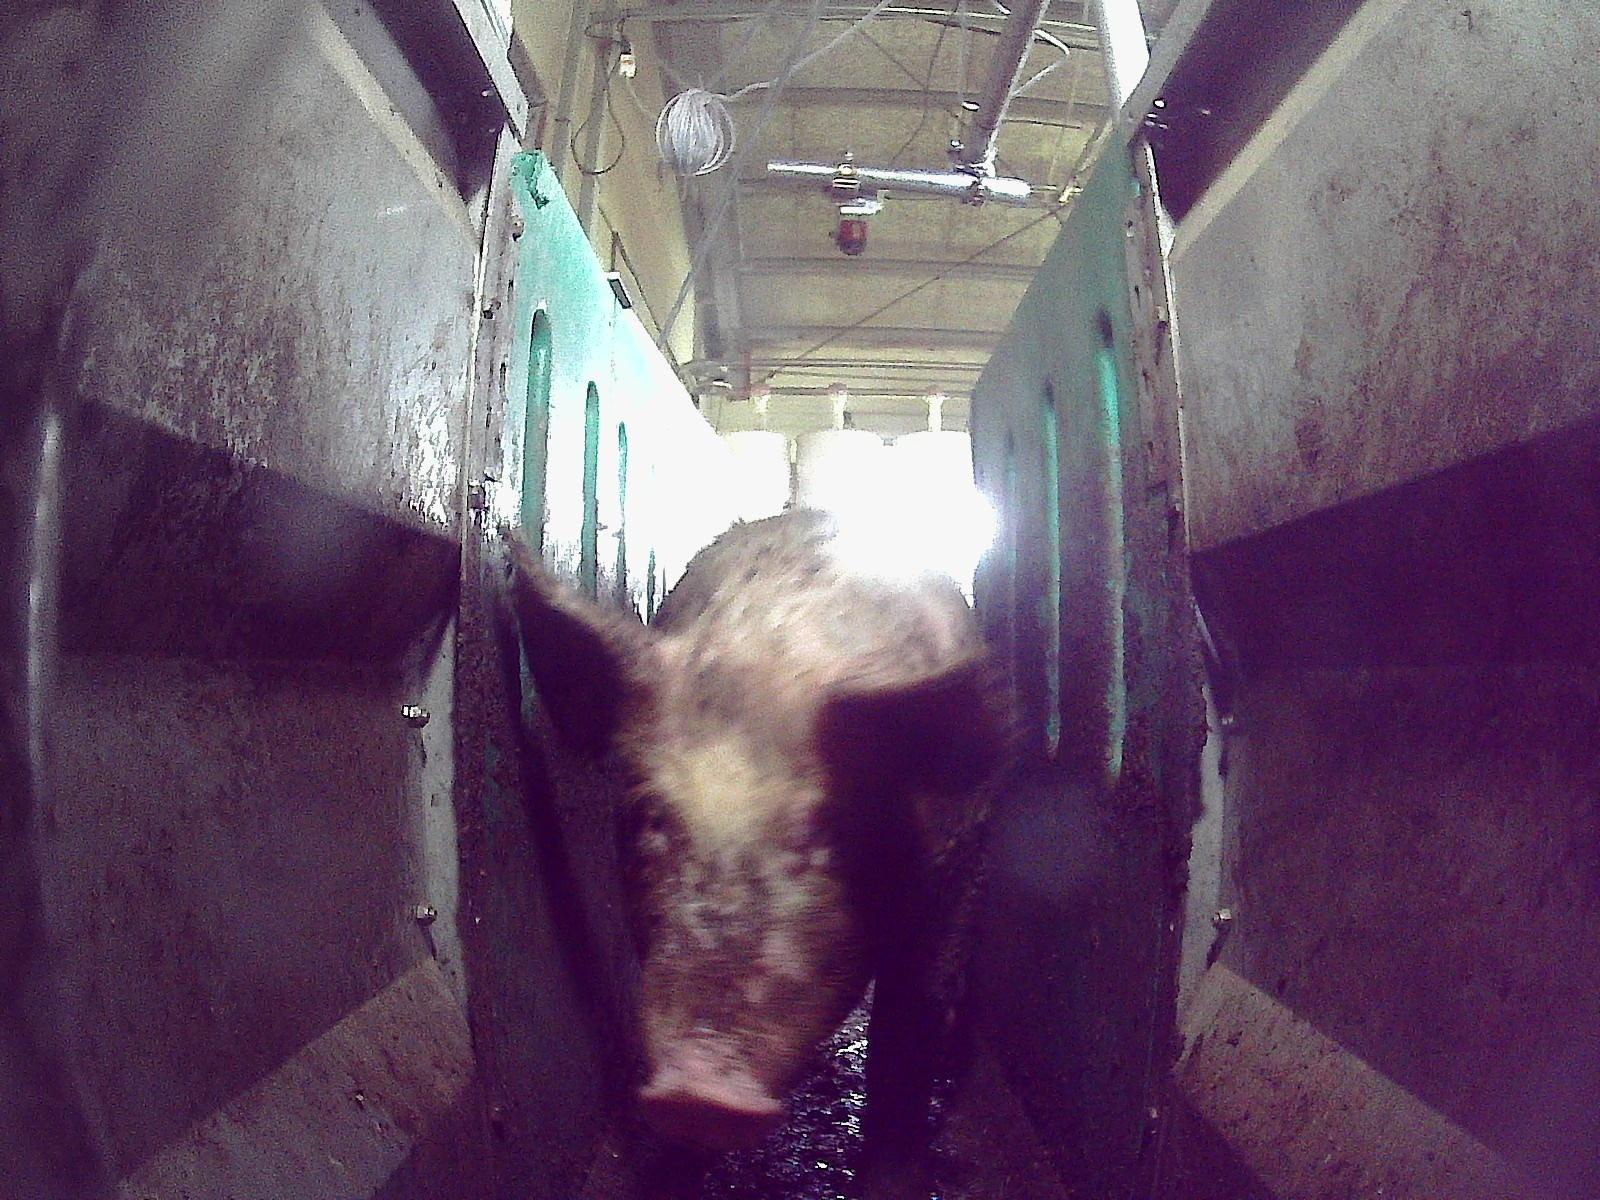Face: (617, 714, 878, 1148)
